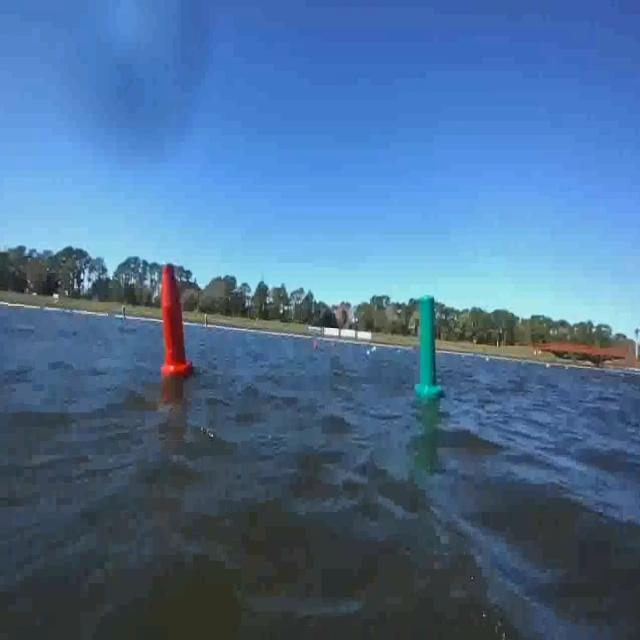green-column-buoy: (415, 290, 444, 400)
red-column-buoy: (159, 262, 193, 376)
